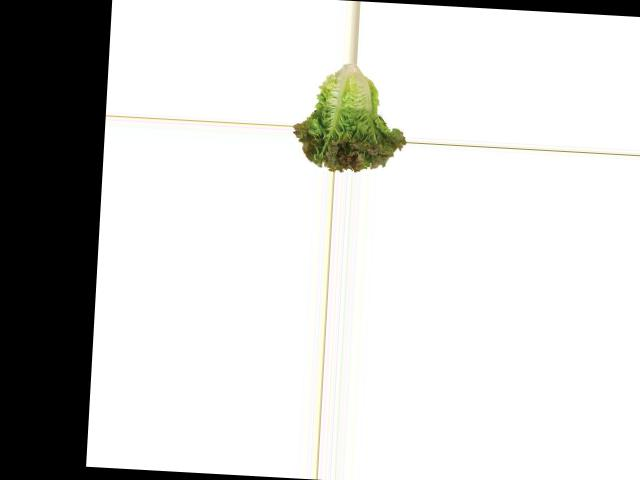lettuce: (292, 60, 410, 174)
